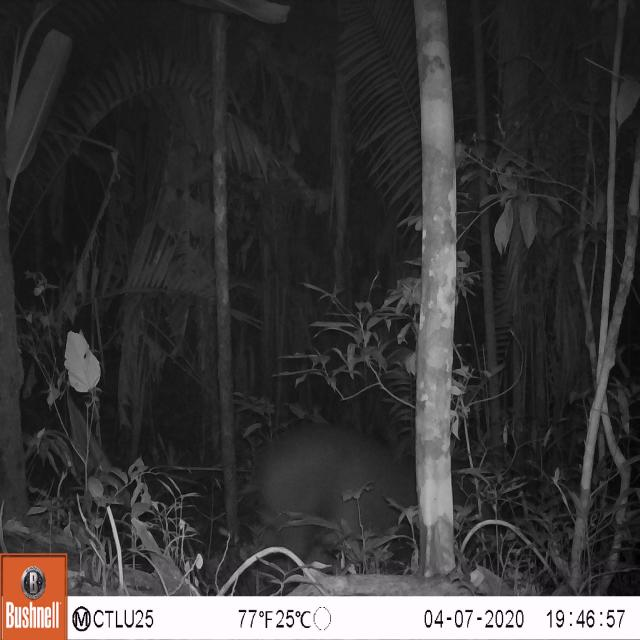Lowland Tapir: (239, 416, 504, 567)
